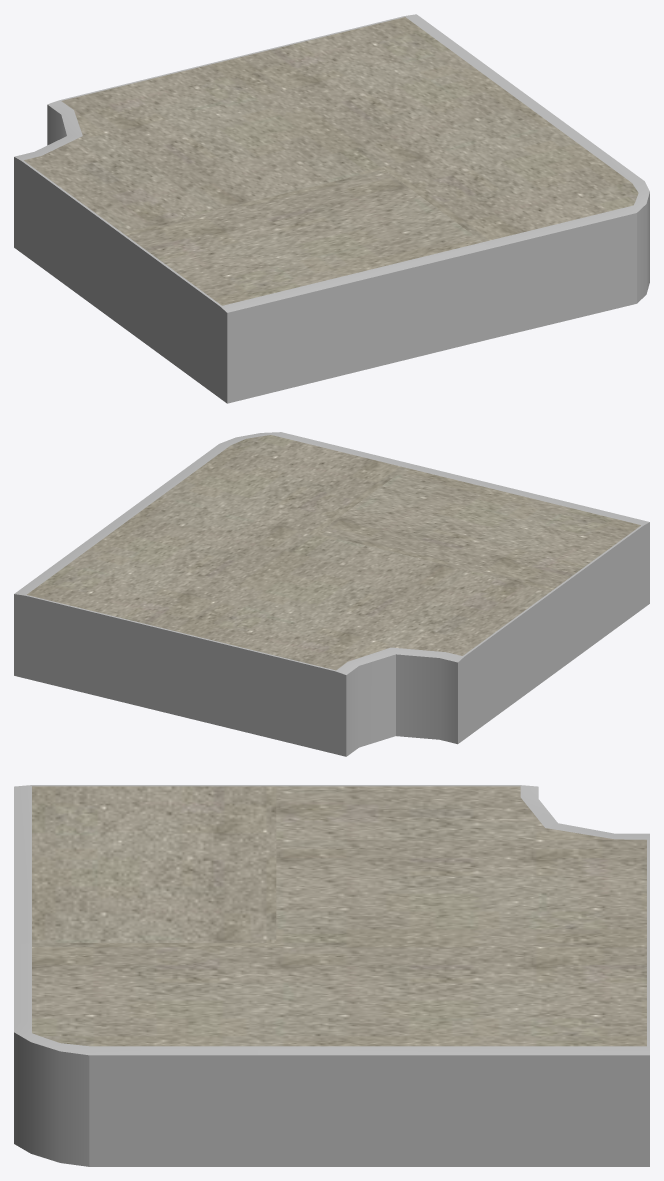
Rendered from road_02_cv.fbx.
The picture shows the model from 3 angles, top to bottom: view 1: azimuth 30°, elevation 25°; view 2: azimuth 150°, elevation 25°; view 3: azimuth 270°, elevation 25°; orthographic projection. The views are drawn at different scales.
Visible parts, largest first — view 1: road_02_cv; view 2: road_02_cv; view 3: road_02_cv.
Part boxes in pixels (box(x1,y1,x2,y2)): road_02_cv: box(14, 14, 649, 403); road_02_cv: box(14, 432, 649, 756); road_02_cv: box(14, 785, 649, 1166).
Bounding box in the file's own units: 10.21 × 2.01 × 10.21.
